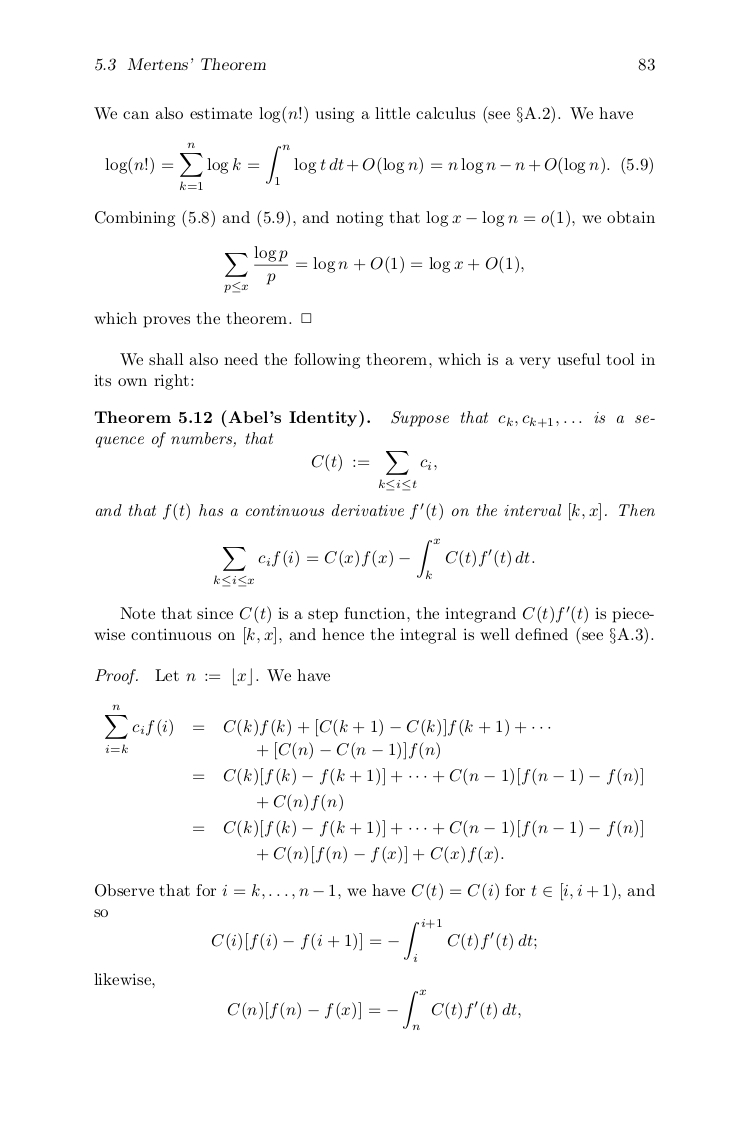formula: (105, 141, 652, 190), (105, 704, 550, 759), (214, 537, 534, 587), (224, 245, 523, 293), (211, 920, 536, 961), (227, 991, 520, 1029), (193, 767, 642, 786), (193, 819, 642, 838), (311, 451, 436, 490), (257, 845, 503, 864), (257, 793, 342, 812)
